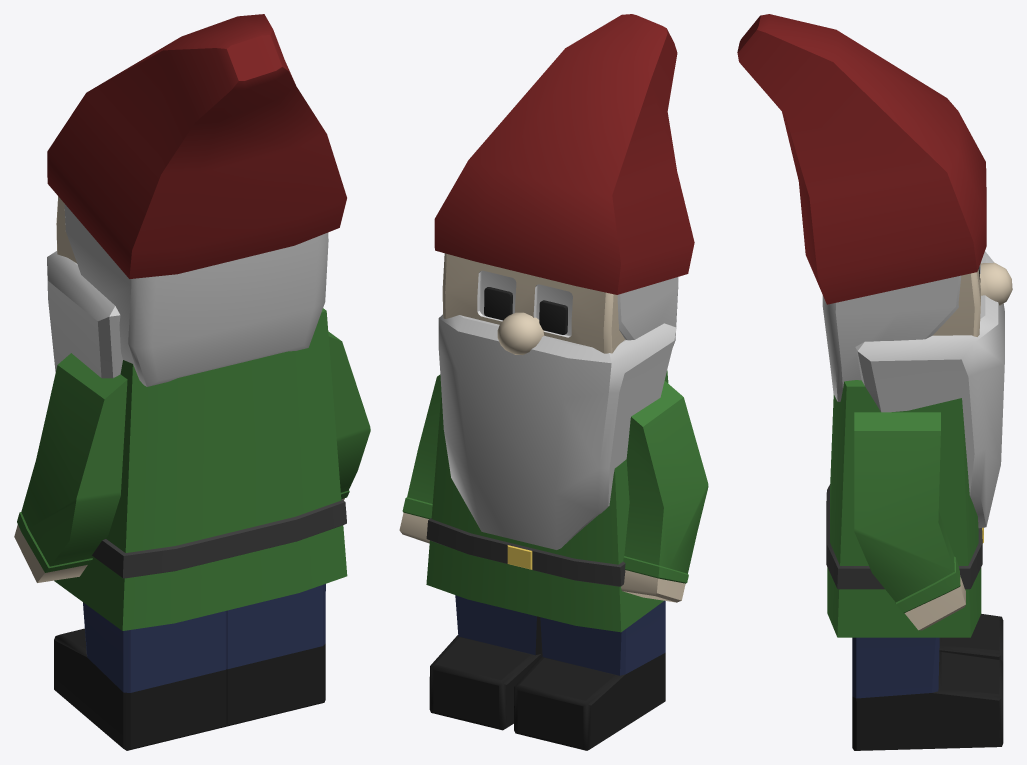
Rendered from Gnome.dae.
The picture shows the model from 3 angles, left to right: view 1: azimuth 30°, elevation 25°; view 2: azimuth 150°, elevation 25°; view 3: azimuth 270°, elevation 25°; orthographic projection. The views are drawn at different scales.
Parts seen in each view (by area): view 1: Gnome; view 2: Gnome; view 3: Gnome.
Boxes of the visible parts, box(x1,y1,x2,y2) form: Gnome: box(14, 14, 370, 750); Gnome: box(399, 14, 708, 750); Gnome: box(737, 14, 1012, 750).
Bounding box in the file's own units: 31.8 × 73.7 × 27.23.
